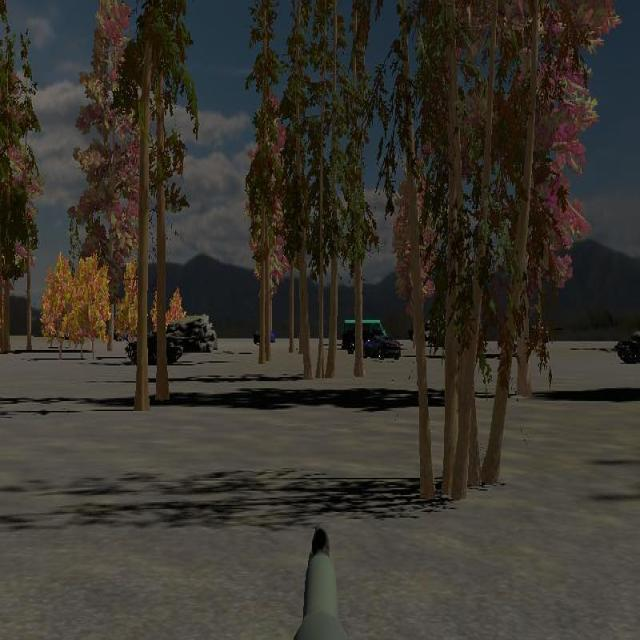Tank: (614, 328, 640, 365)
car: (342, 318, 388, 352), (342, 319, 388, 352), (359, 334, 401, 361)
